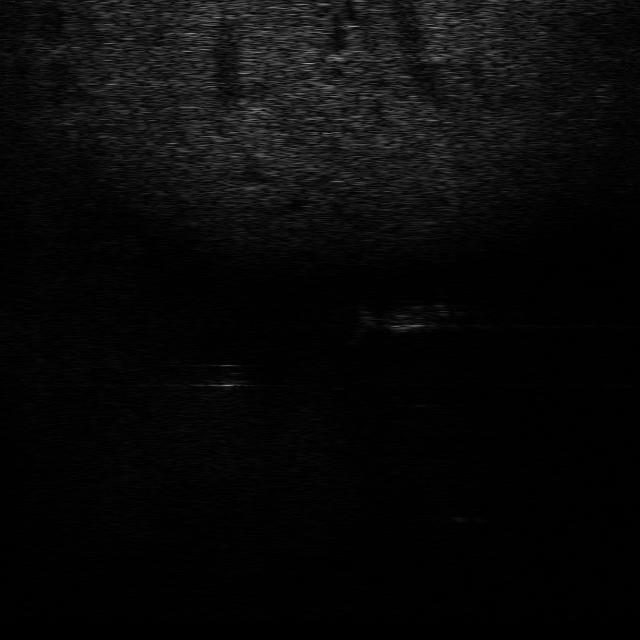ball: (200, 358, 254, 392)
human body: (342, 299, 463, 341)
